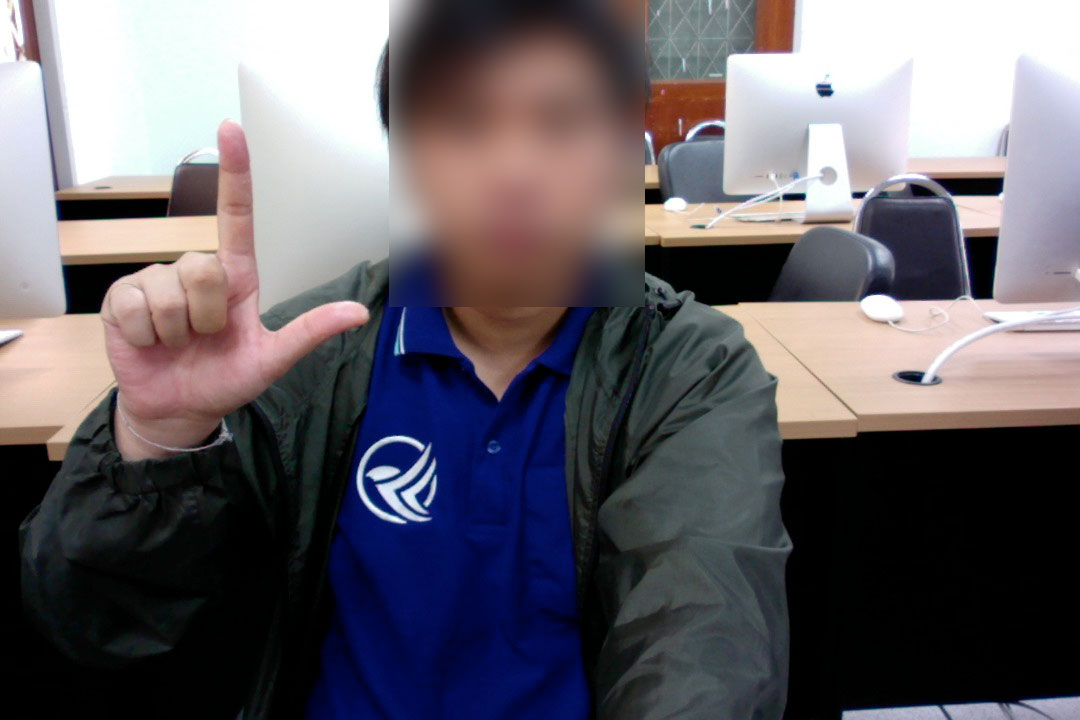lor: (86, 124, 381, 446)
